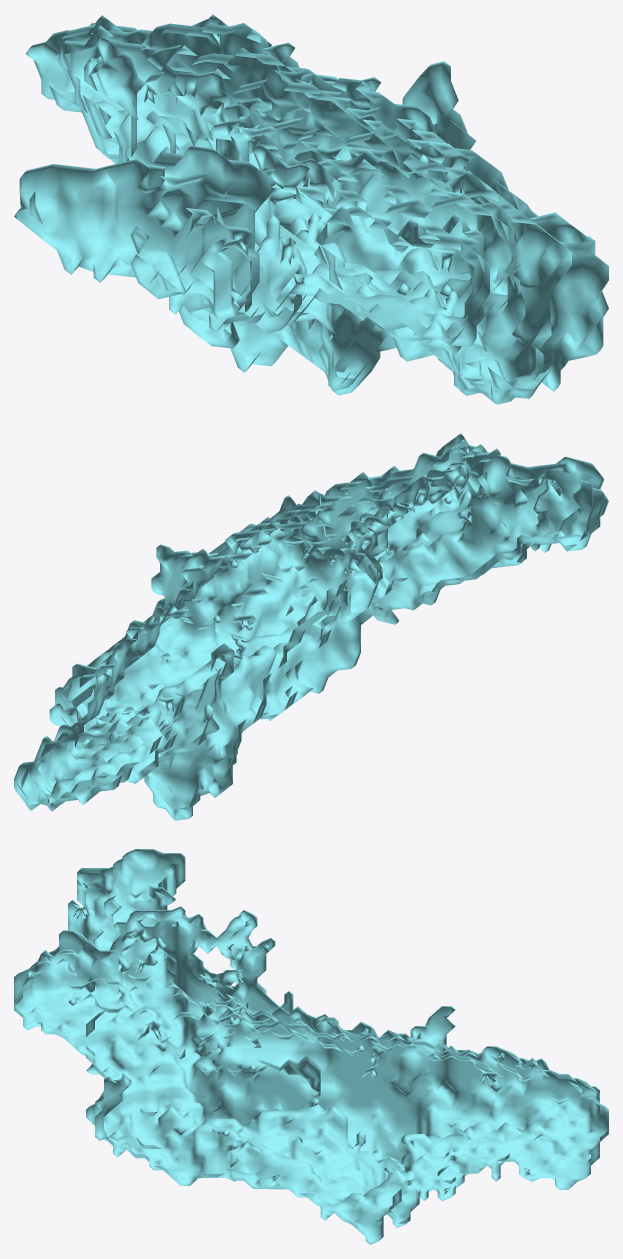
Rendered from osteocyte_52.glb.
The picture shows the model from 3 angles, top to bottom: view 1: azimuth 30°, elevation 25°; view 2: azimuth 150°, elevation 25°; view 3: azimuth 270°, elevation 25°; orthographic projection. The views are drawn at different scales.
Visible parts, largest first — view 1: osteocyte_52; view 2: osteocyte_52; view 3: osteocyte_52.
Part boxes in pixels (x1,y1,x2,y2): osteocyte_52: (14, 14, 608, 404); osteocyte_52: (14, 433, 608, 820); osteocyte_52: (14, 849, 608, 1244).
Bounding box in the file's own units: 23.11 × 14.93 × 31.78.
